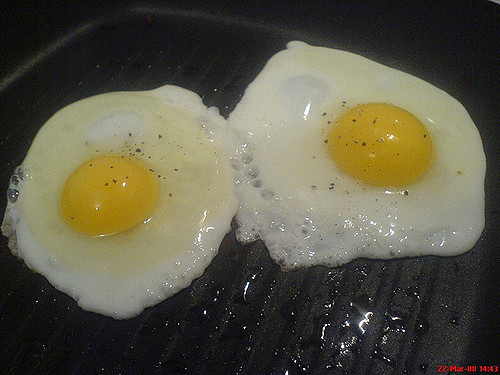fried egg: (231, 36, 483, 262), (23, 91, 213, 317)
